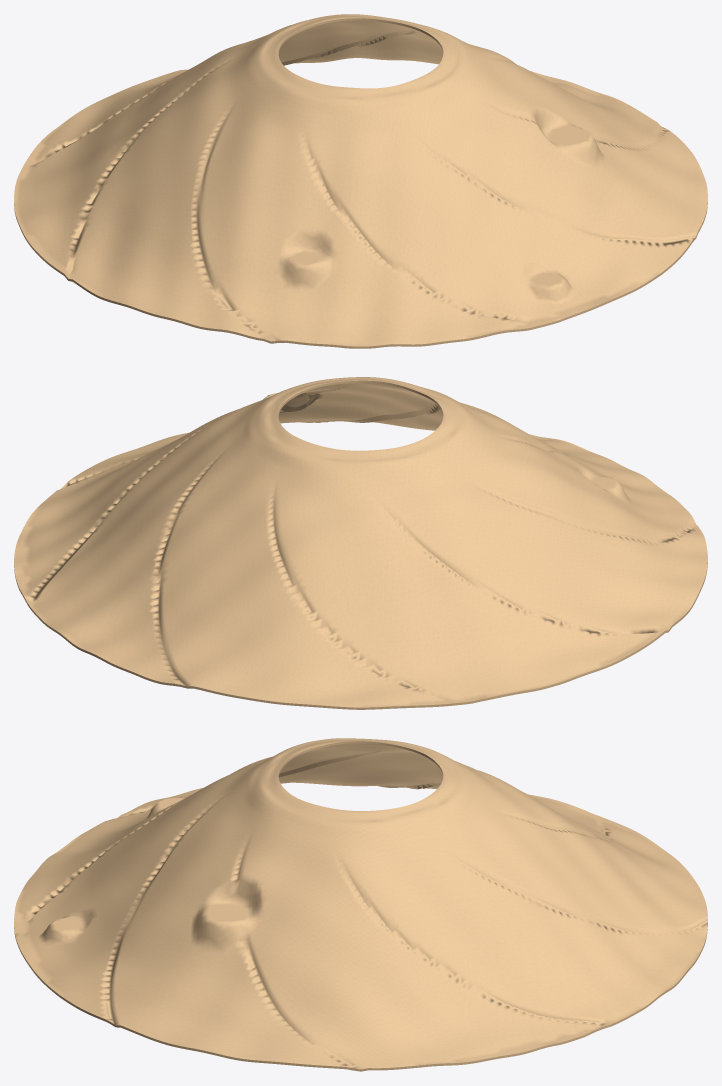
File: SuckTheSea_Seabed.fbx
The picture shows the model from 3 angles, top to bottom: view 1: azimuth 30°, elevation 25°; view 2: azimuth 150°, elevation 25°; view 3: azimuth 270°, elevation 25°; orthographic projection.
Parts seen in each view (by area): view 1: Seabed__B4_S04, Seabed__B4_S03, Seabed__B5_S04, Seabed__B5_S03, Seabed__B3_S04, Seabed__B4_S02, Seabed__B3_S03, Seabed__B4_S05, Seabed__B5_S05, Seabed__B5_S02, Seabed__B3_S02, Seabed__B3_S05 (+36 smaller); view 2: Seabed__B4_S07, Seabed__B4_S08, Seabed__B5_S08, Seabed__B5_S07, Seabed__B3_S07, Seabed__B4_S09, Seabed__B4_S06, Seabed__B3_S08, Seabed__B5_S09, Seabed__B5_S06, Seabed__B3_S06, Seabed__B3_S09 (+36 smaller); view 3: Seabed__B4_S00, Seabed__B4_S11, Seabed__B5_S00, Seabed__B5_S11, Seabed__B4_S10, Seabed__B4_S01, Seabed__B3_S00, Seabed__B5_S01, Seabed__B3_S11, Seabed__B5_S10, Seabed__B3_S10, Seabed__B3_S01 (+36 smaller).
Boxes of the visible parts, bbox=[...] form: Seabed__B4_S04: bbox=[214, 228, 360, 305]; Seabed__B4_S03: bbox=[361, 238, 507, 305]; Seabed__B5_S04: bbox=[187, 285, 360, 348]; Seabed__B5_S03: bbox=[361, 290, 534, 348]; Seabed__B3_S04: bbox=[240, 174, 360, 253]; Seabed__B4_S02: bbox=[482, 196, 615, 290]; Seabed__B3_S03: bbox=[361, 180, 481, 251]; Seabed__B4_S05: bbox=[106, 200, 240, 287]; Seabed__B5_S05: bbox=[60, 247, 213, 324]; Seabed__B5_S02: bbox=[508, 243, 661, 328]; Seabed__B3_S02: bbox=[455, 150, 569, 238]; Seabed__B3_S05: bbox=[152, 151, 266, 227]; Seabed__B4_S07: bbox=[361, 598, 507, 671]; Seabed__B4_S08: bbox=[214, 593, 360, 667]; Seabed__B5_S08: bbox=[187, 649, 360, 709]; Seabed__B5_S07: bbox=[361, 652, 534, 709]; Seabed__B3_S07: bbox=[361, 542, 480, 612]; Seabed__B4_S09: bbox=[106, 560, 240, 648]; Seabed__B4_S06: bbox=[481, 562, 615, 652]; Seabed__B3_S08: bbox=[241, 539, 360, 611]; Seabed__B5_S09: bbox=[60, 604, 213, 688]; Seabed__B5_S06: bbox=[508, 610, 661, 691]; Seabed__B3_S06: bbox=[455, 514, 569, 598]; Seabed__B3_S09: bbox=[152, 513, 266, 593]; Seabed__B4_S00: bbox=[214, 956, 360, 1025]; Seabed__B4_S11: bbox=[361, 964, 507, 1027]; Seabed__B5_S00: bbox=[187, 1009, 360, 1071]; Seabed__B5_S11: bbox=[361, 1015, 534, 1071]; Seabed__B4_S10: bbox=[481, 921, 615, 1014]; Seabed__B4_S01: bbox=[106, 919, 240, 1009]; Seabed__B3_S00: bbox=[241, 900, 360, 968]; Seabed__B5_S01: bbox=[60, 965, 213, 1049]; Seabed__B3_S11: bbox=[361, 906, 481, 971]; Seabed__B5_S10: bbox=[508, 965, 661, 1051]; Seabed__B3_S10: bbox=[455, 873, 569, 964]; Seabed__B3_S01: bbox=[152, 872, 266, 956].
Size of the model in its own units: 708 by 168 by 708.
1 material, 1 textured.
